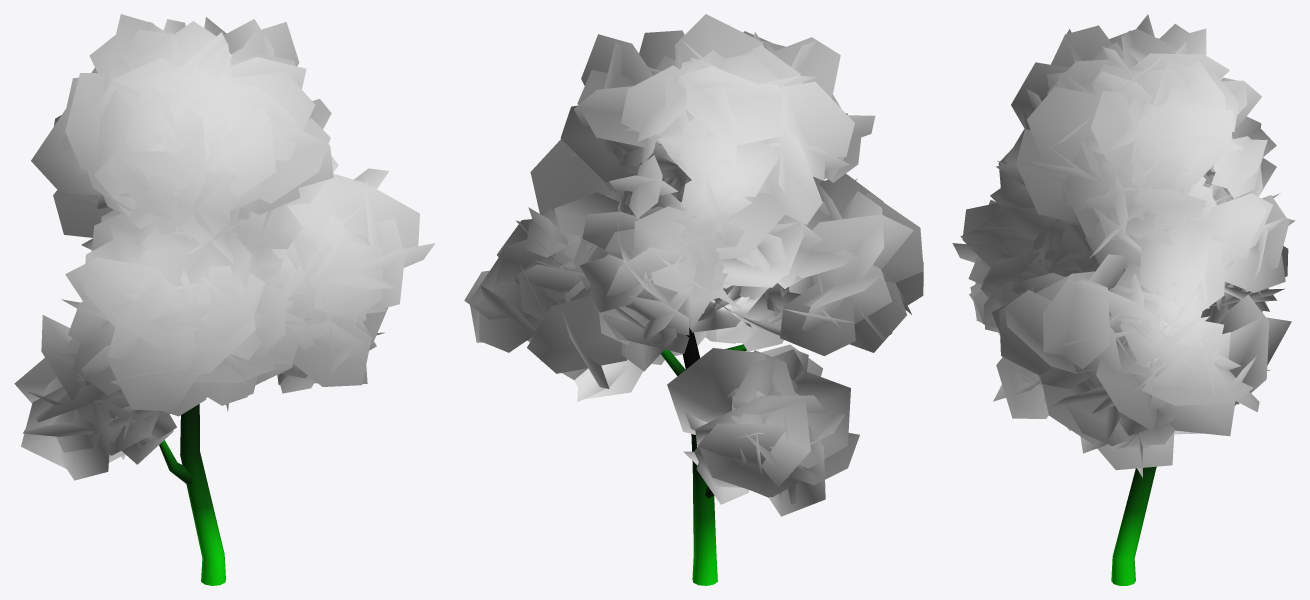
File: SM_OakTree2.FBX
3 views of the same model, side by side, from view 1: azimuth 30°, elevation 25°; view 2: azimuth 150°, elevation 25°; view 3: azimuth 270°, elevation 25° (orthographic). The views are drawn at different scales.
Visible parts, largest first — view 1: SM_OakTree2_LOD0; view 2: SM_OakTree2_LOD0; view 3: SM_OakTree2_LOD0.
Part boxes in pixels (x1,y1,x2,y2): SM_OakTree2_LOD0: (14, 14, 435, 585); SM_OakTree2_LOD0: (464, 14, 923, 585); SM_OakTree2_LOD0: (952, 14, 1295, 585).
Bounding box in the file's own units: 998 × 853 × 1461.
